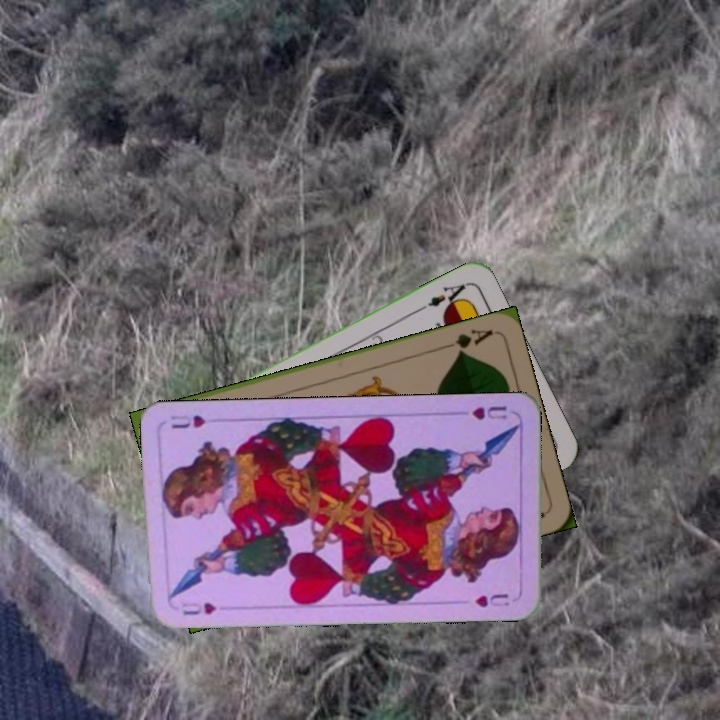EA: (415, 279, 470, 313)
GA: (438, 325, 496, 357)
HU: (468, 401, 510, 422), (178, 598, 219, 618)
